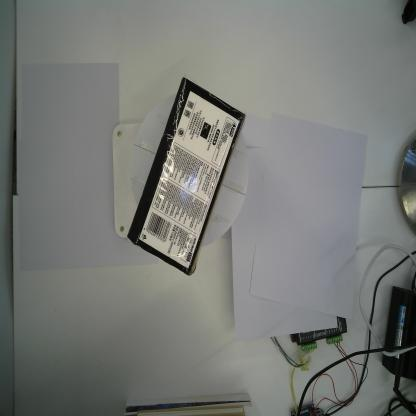Tissue: (126, 76, 247, 278)
